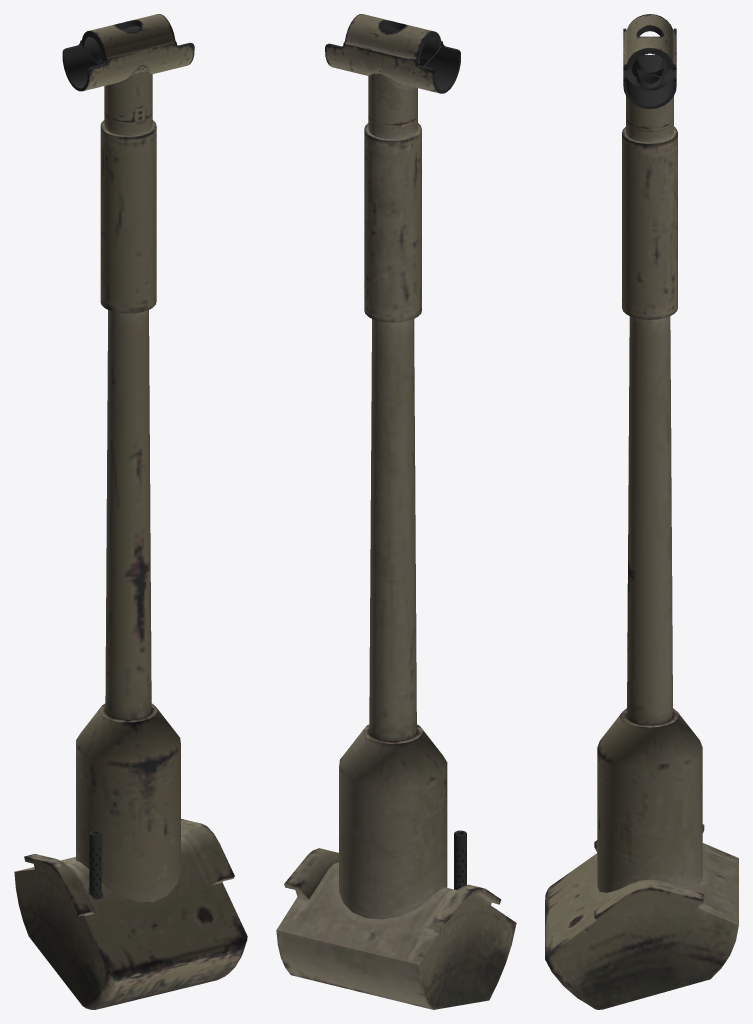
File: Gun_01.glb
The picture shows the model from 3 angles, left to right: view 1: azimuth 30°, elevation 25°; view 2: azimuth 150°, elevation 25°; view 3: azimuth 270°, elevation 25°; orthographic projection. The views are drawn at different scales.
Parts seen in each view (by area): view 1: set_0_group_0; view 2: set_0_group_0; view 3: set_0_group_0.
Boxes of the visible parts, x1=… form: set_0_group_0: x1=14, y1=14, x2=247, y2=1009; set_0_group_0: x1=276, y1=14, x2=516, y2=1009; set_0_group_0: x1=545, y1=14, x2=738, y2=1009.
Bounding box in the file's own units: 0.6654 × 3.88 × 0.7185.
Materials: 1 (1 with a texture image).
